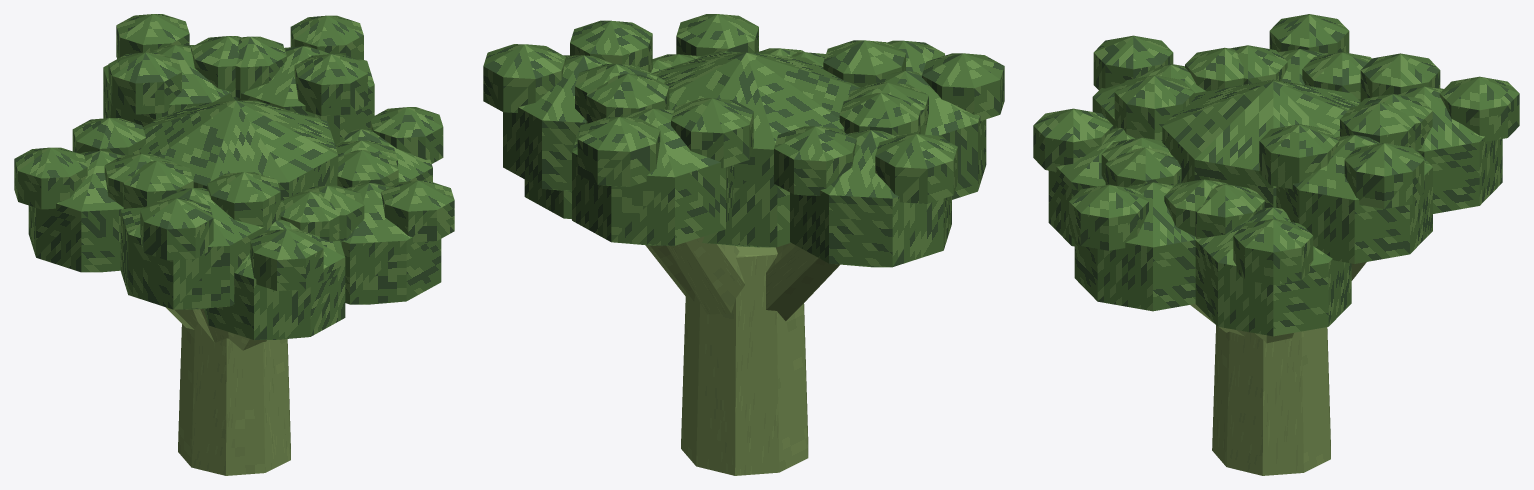
The model's file is broccoli.glb.
3 renders of one model, left to right at view 1: azimuth 30°, elevation 25°; view 2: azimuth 150°, elevation 25°; view 3: azimuth 270°, elevation 25°, orthographic. The views are drawn at different scales.
Visible parts, largest first — view 1: block_small crown bud (×19), block_cluster of tight buds (×7), block_cut broccoli stalk, block_center crown, block_stem to floret; view 2: block_small crown bud (×14), block_cluster of tight buds (×5), block_cut broccoli stalk, block_center crown, block_stem to floret (×3); view 3: block_small crown bud (×19), block_cluster of tight buds (×7), block_cut broccoli stalk, block_center crown.
Part boxes in pixels (left/top/right/bottom): block_small crown bud (×19): left=14, top=14, right=454, bottom=290; block_cluster of tight buds (×7): left=28, top=45, right=441, bottom=340; block_cut broccoli stalk: left=178, top=323, right=290, bottom=475; block_center crown: left=139, top=100, right=338, bottom=200; block_stem to floret: left=193, top=309, right=228, bottom=342; block_small crown bud (×14): left=483, top=14, right=1004, bottom=203; block_cluster of tight buds (×5): left=503, top=55, right=986, bottom=267; block_cut broccoli stalk: left=681, top=246, right=808, bottom=475; block_center crown: left=652, top=52, right=860, bottom=247; block_stem to floret (×3): left=650, top=236, right=839, bottom=320; block_small crown bud (×19): left=1033, top=14, right=1519, bottom=284; block_cluster of tight buds (×7): left=1048, top=49, right=1502, bottom=336; block_cut broccoli stalk: left=1212, top=325, right=1330, bottom=475; block_center crown: left=1162, top=79, right=1360, bottom=208.
Size of the model in its own units: 0.145 by 0.1242 by 0.1436.
1 material, 1 textured.
